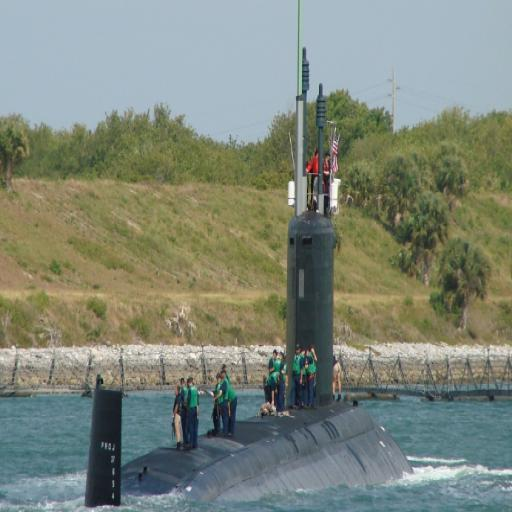submarine: (85, 1, 417, 509)
